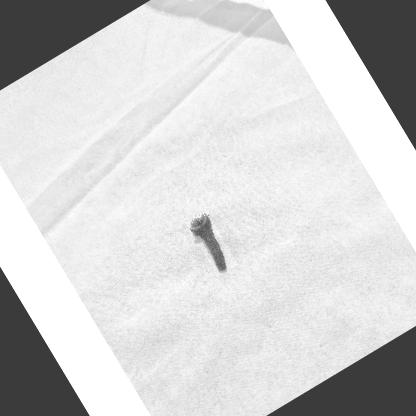buruk: (191, 213, 229, 273)
